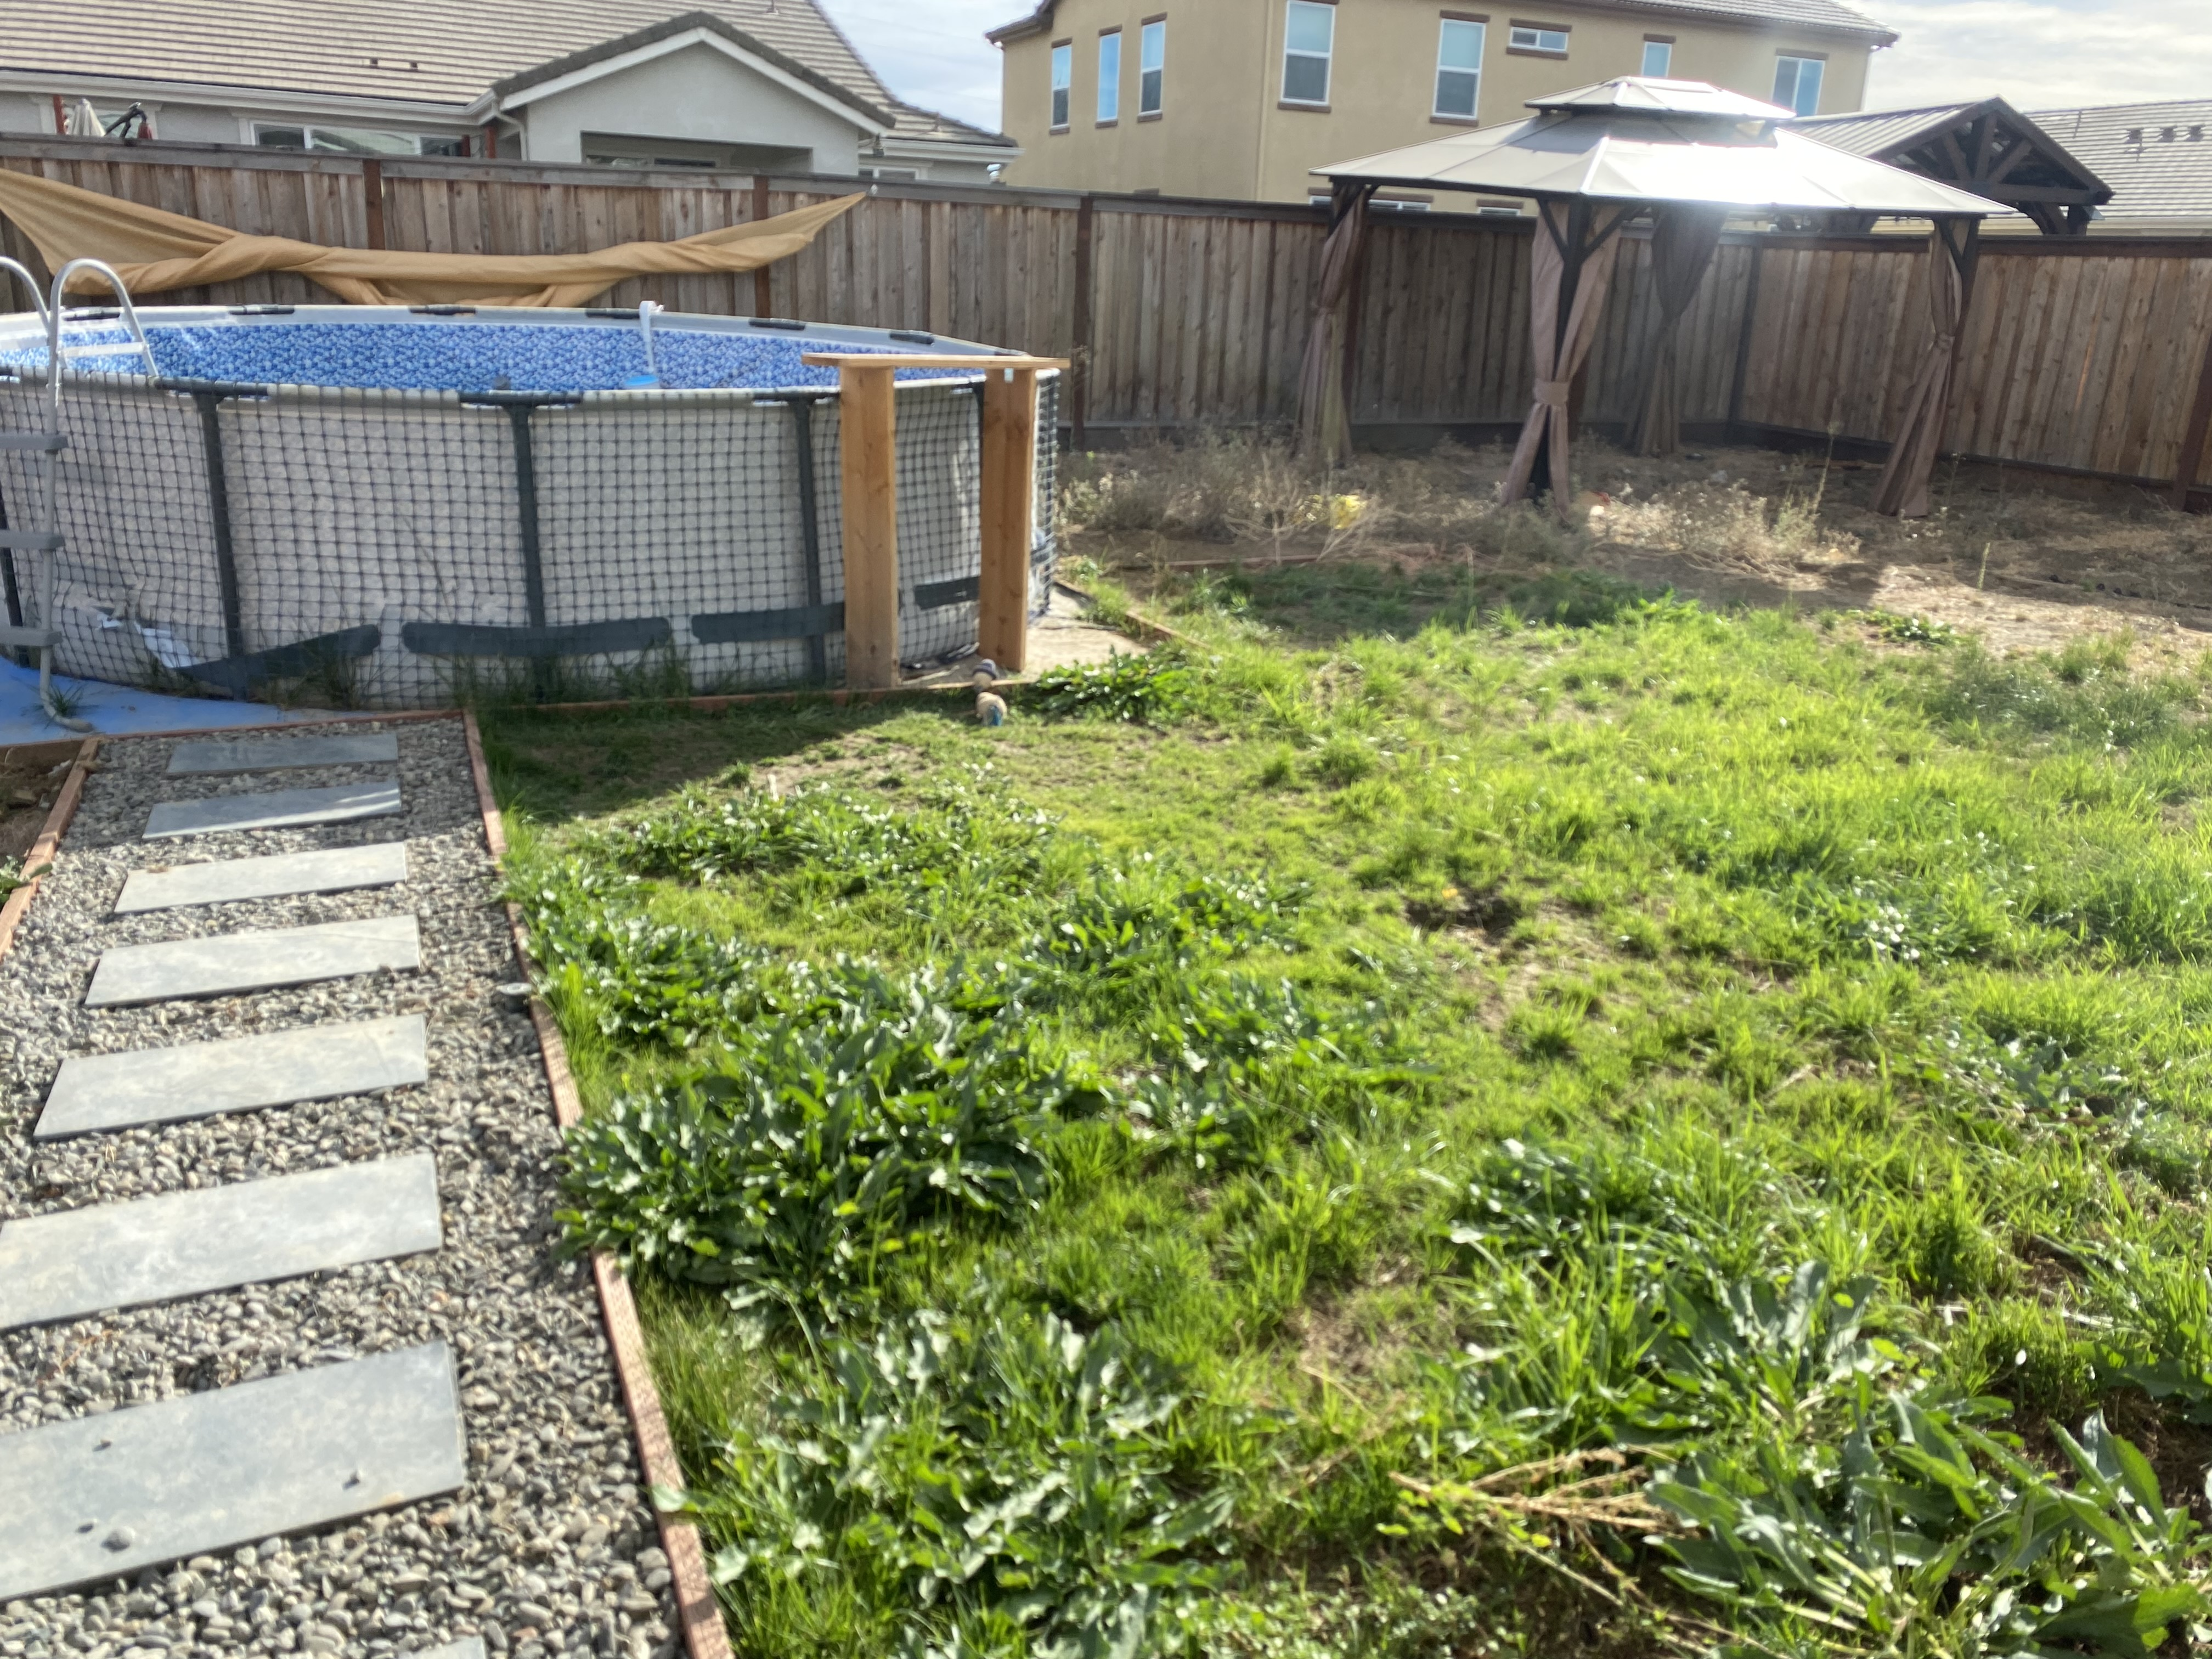weed: (1615, 1260, 2212, 1659), (782, 1316, 1233, 1657), (583, 1068, 1003, 1281), (1049, 655, 1198, 723)
